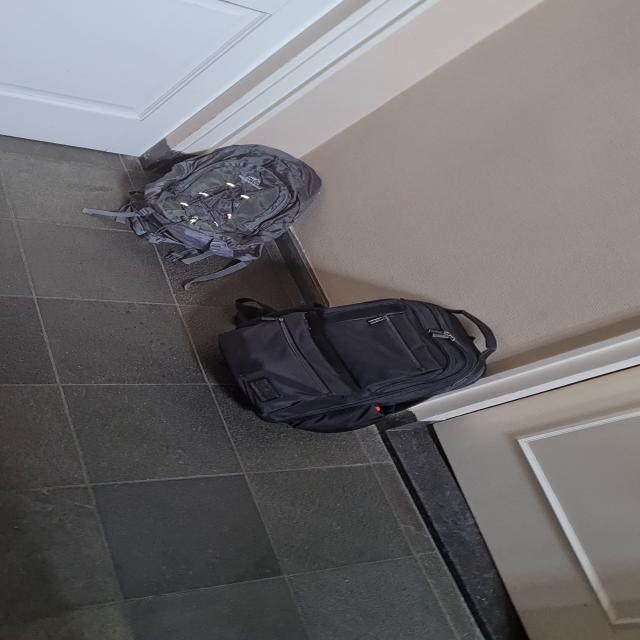backpack: (205, 290, 501, 439), (138, 140, 325, 268)
